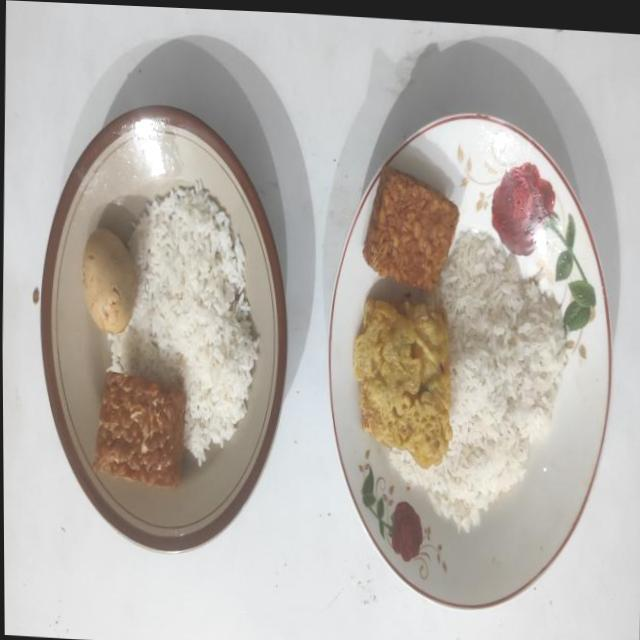nasi_putih: (390, 229, 567, 532), (108, 180, 260, 466)
tempe_goreng: (363, 166, 459, 290), (92, 371, 186, 486)
